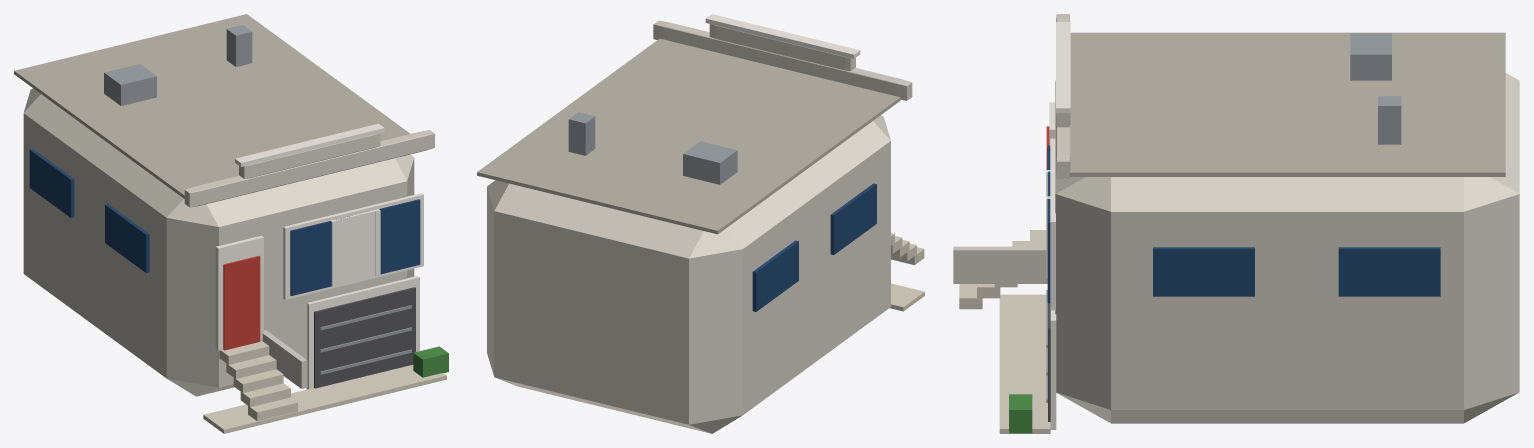
The model's file is sunset_w7_stepped_pic_m.glb.
The picture shows the model from 3 angles, left to right: view 1: azimuth 30°, elevation 25°; view 2: azimuth 150°, elevation 25°; view 3: azimuth 270°, elevation 25°; orthographic projection. The views are drawn at different scales.
Visible parts, largest first — view 1: walls, roofslab, gdoor, pwin, pp1, patio, door, pmull, dfr, pfr, gfr, pp2 (+12 smaller); view 2: walls, roofslab, pp1, pp2, sb.002, sb, hvac, pcap, pipe, patio; view 3: walls, roofslab, patio, sb.003, sb.001, srail, hvac, pcap, pipe, pfr, hedge, pp1 (+3 smaller).
Boxes of the visible parts, x1,y1,x2,y2 form: walls: (23,88,414,396); roofslab: (14,14,410,198); gdoor: (314,287,415,388); pwin: (290,199,420,295); pp1: (184,130,434,207); patio: (203,365,446,433); door: (223,256,260,350); pmull: (336,210,376,285); dfr: (215,235,263,350); pfr: (283,193,423,299); gfr: (306,275,419,389); pp2: (239,133,380,178); walls: (487,115,890,433); roofslab: (477,38,900,234); pp1: (653,20,912,100); pp2: (709,24,855,71); sb.002: (752,240,798,311); sb: (830,183,876,254); hvac: (683,141,737,184); pcap: (705,14,860,58); pipe: (568,112,595,155); patio: (889,283,924,311); walls: (1055,73,1519,423); roofslab: (1070,32,1505,176); patio: (999,294,1050,433); sb.003: (1338,247,1440,296); sb.001: (1153,247,1254,296); srail: (953,246,1047,283); hvac: (1350,33,1391,80); pcap: (1056,22,1070,113); pipe: (1378,96,1401,144); pfr: (1050,138,1055,310); hedge: (1009,394,1032,433); pp1: (1056,14,1070,178).
Size of the model in its own units: 7.8 by 7.2 by 12.2.
